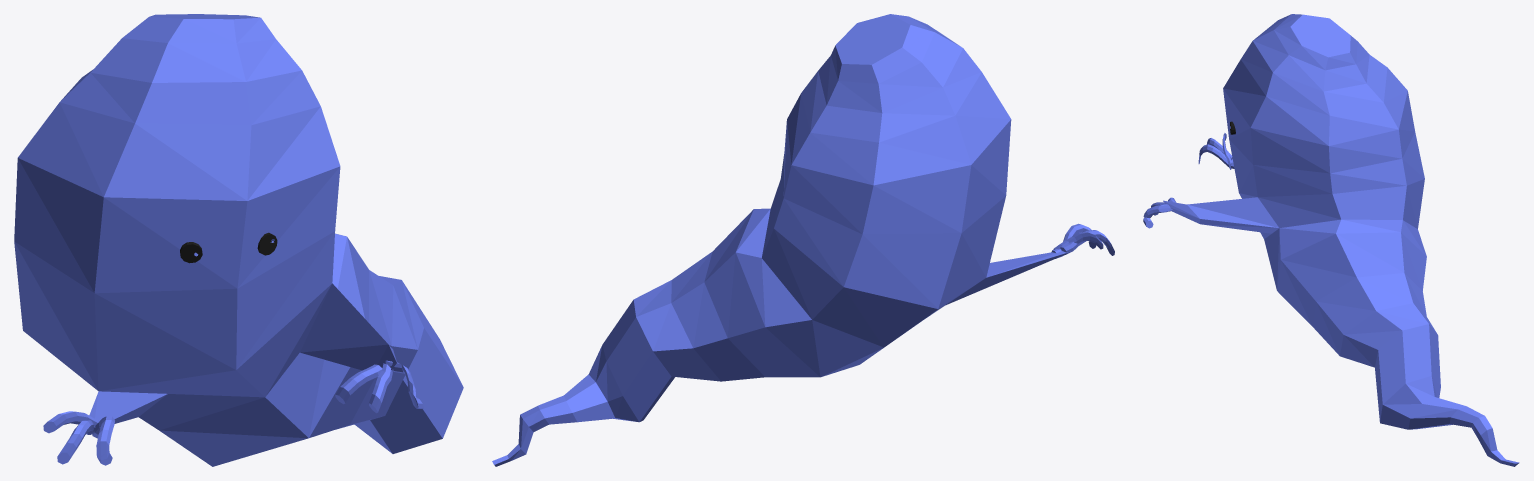
Rendered from ghost3.glb.
The picture shows the model from 3 angles, left to right: view 1: azimuth 30°, elevation 25°; view 2: azimuth 150°, elevation 25°; view 3: azimuth 270°, elevation 25°; orthographic projection. The views are drawn at different scales.
Parts seen in each view (by area): view 1: group473796594; view 2: group473796594; view 3: group473796594.
Part boxes in pixels (x1,y1,x2,y2): group473796594: (14, 14, 463, 466); group473796594: (492, 14, 1114, 466); group473796594: (1143, 14, 1519, 466).
Bounding box in the file's own units: 1.55 × 1.42 × 1.43.
